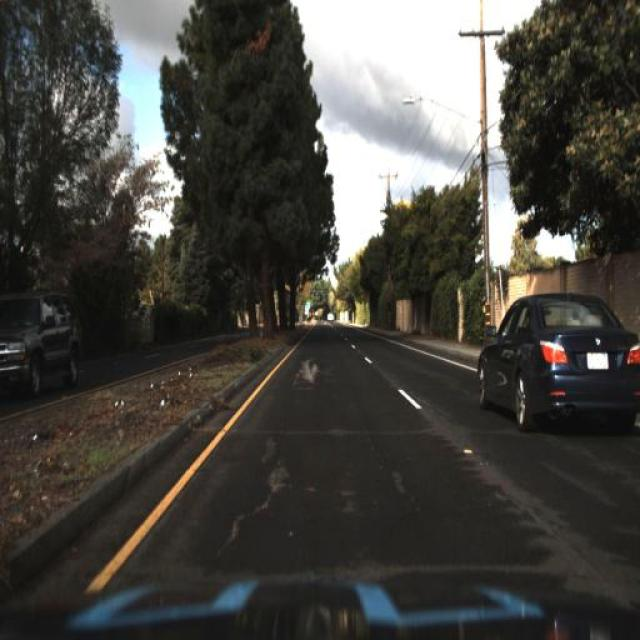car: (472, 288, 636, 437), (0, 289, 86, 402)
